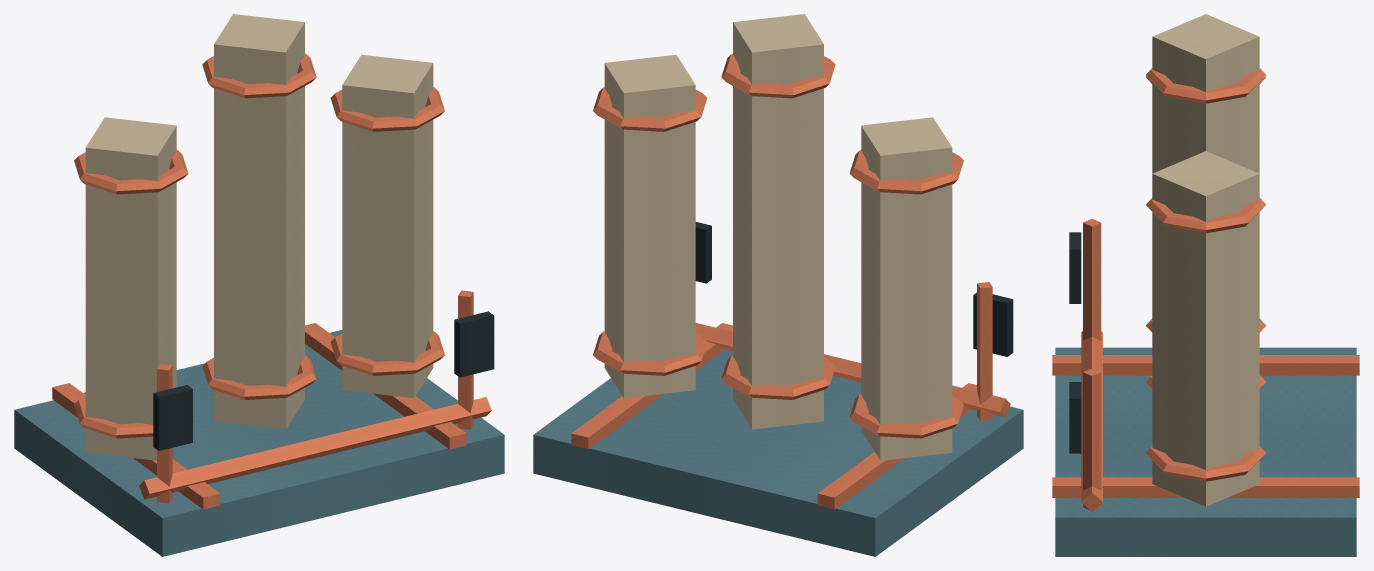
File: atlas100-s050-a02.lod2.glb
3 views of the same model, side by side, from view 1: azimuth 30°, elevation 25°; view 2: azimuth 150°, elevation 25°; view 3: azimuth 270°, elevation 25° (orthographic).
Visible parts, largest first — view 1: atlas100-s050-a02:part-000, atlas100-s050-a02:part-007, atlas100-s050-a02:part-011, atlas100-s050-a02:part-003, atlas100-s050-a02:part-019, atlas100-s050-a02:part-018, atlas100-s050-a02:part-016, atlas100-s050-a02:part-002, atlas100-s050-a02:part-012, atlas100-s050-a02:part-005, atlas100-s050-a02:part-013, atlas100-s050-a02:part-008 (+5 smaller); view 2: atlas100-s050-a02:part-000, atlas100-s050-a02:part-007, atlas100-s050-a02:part-003, atlas100-s050-a02:part-011, atlas100-s050-a02:part-002, atlas100-s050-a02:part-019, atlas100-s050-a02:part-015, atlas100-s050-a02:part-001, atlas100-s050-a02:part-012, atlas100-s050-a02:part-005, atlas100-s050-a02:part-013, atlas100-s050-a02:part-004 (+4 smaller); view 3: atlas100-s050-a02:part-000, atlas100-s050-a02:part-011, atlas100-s050-a02:part-007, atlas100-s050-a02:part-002, atlas100-s050-a02:part-001, atlas100-s050-a02:part-017, atlas100-s050-a02:part-015, atlas100-s050-a02:part-009, atlas100-s050-a02:part-012, atlas100-s050-a02:part-013, atlas100-s050-a02:part-019, atlas100-s050-a02:part-016 (+1 smaller).
Boxes of the visible parts, left/top/right/bottom form: atlas100-s050-a02:part-000: left=14, top=330, right=504, bottom=556; atlas100-s050-a02:part-007: left=214, top=14, right=304, bottom=429; atlas100-s050-a02:part-011: left=342, top=54, right=433, bottom=398; atlas100-s050-a02:part-003: left=85, top=117, right=176, bottom=460; atlas100-s050-a02:part-019: left=139, top=397, right=491, bottom=499; atlas100-s050-a02:part-018: left=454, top=311, right=494, bottom=377; atlas100-s050-a02:part-016: left=153, top=385, right=192, bottom=450; atlas100-s050-a02:part-002: left=305, top=323, right=466, bottom=449; atlas100-s050-a02:part-012: left=330, top=331, right=444, bottom=375; atlas100-s050-a02:part-005: left=74, top=150, right=188, bottom=194; atlas100-s050-a02:part-013: left=330, top=87, right=444, bottom=131; atlas100-s050-a02:part-008: left=202, top=355, right=316, bottom=399; atlas100-s050-a02:part-000: left=533, top=349, right=1023, bottom=556; atlas100-s050-a02:part-007: left=733, top=14, right=823, bottom=429; atlas100-s050-a02:part-003: left=861, top=117, right=952, bottom=460; atlas100-s050-a02:part-011: left=604, top=54, right=695, bottom=398; atlas100-s050-a02:part-002: left=571, top=323, right=732, bottom=449; atlas100-s050-a02:part-019: left=695, top=323, right=1010, bottom=417; atlas100-s050-a02:part-015: left=977, top=282, right=992, bottom=421; atlas100-s050-a02:part-001: left=817, top=383, right=976, bottom=509; atlas100-s050-a02:part-012: left=593, top=331, right=707, bottom=375; atlas100-s050-a02:part-005: left=849, top=150, right=963, bottom=194; atlas100-s050-a02:part-013: left=593, top=87, right=707, bottom=131; atlas100-s050-a02:part-004: left=849, top=394, right=963, bottom=438; atlas100-s050-a02:part-000: left=1055, top=347, right=1356, bottom=556; atlas100-s050-a02:part-011: left=1152, top=151, right=1259, bottom=506; atlas100-s050-a02:part-007: left=1152, top=14, right=1259, bottom=173; atlas100-s050-a02:part-002: left=1052, top=477, right=1359, bottom=497; atlas100-s050-a02:part-001: left=1052, top=355, right=1359, bottom=375; atlas100-s050-a02:part-017: left=1083, top=368, right=1101, bottom=509; atlas100-s050-a02:part-015: left=1083, top=219, right=1101, bottom=340; atlas100-s050-a02:part-009: left=1146, top=68, right=1265, bottom=103; atlas100-s050-a02:part-012: left=1146, top=446, right=1265, bottom=481; atlas100-s050-a02:part-013: left=1146, top=198, right=1265, bottom=233; atlas100-s050-a02:part-019: left=1081, top=331, right=1102, bottom=511; atlas100-s050-a02:part-016: left=1069, top=232, right=1081, bottom=303.
Bounding box in the file's own units: 2.52 × 2.87 × 1.84.
4 materials, 4 textured.
